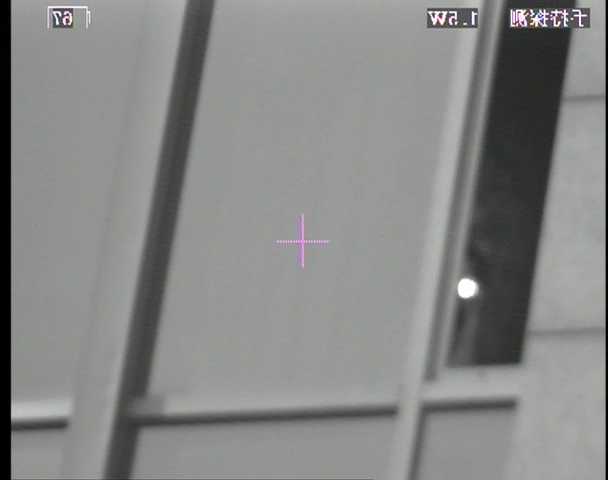my: (456, 275, 479, 299)
